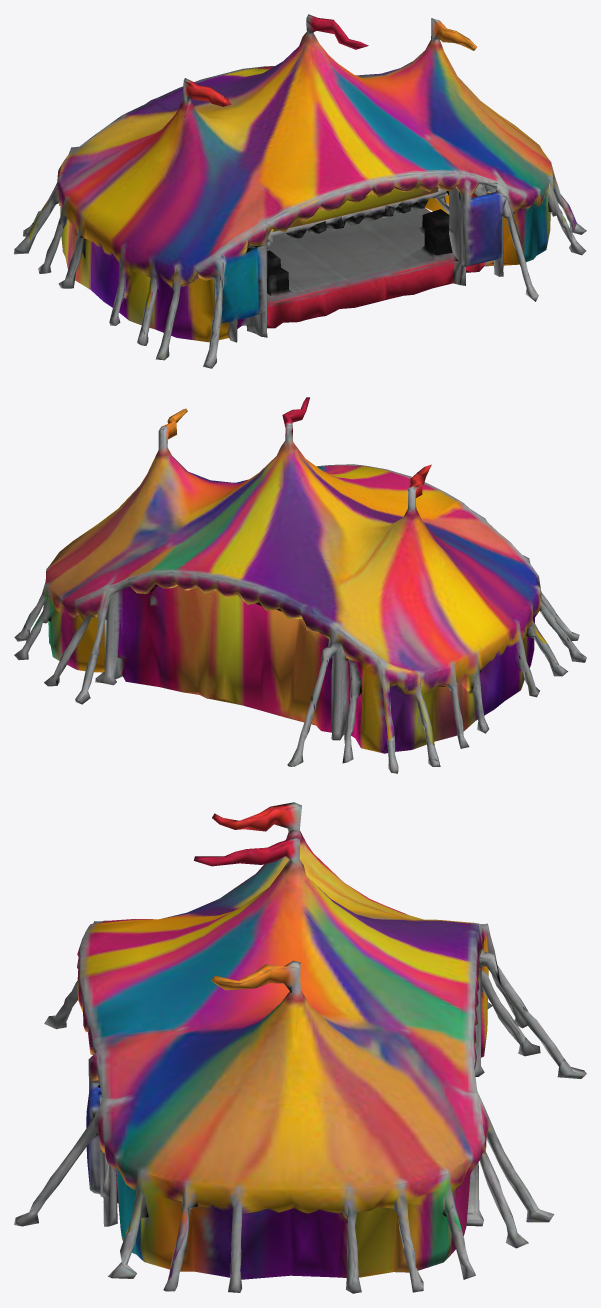
Rendered from fest_tent_stage.glb.
3 renders of one model, top to bottom at view 1: azimuth 30°, elevation 25°; view 2: azimuth 150°, elevation 25°; view 3: azimuth 270°, elevation 25°, orthographic. The views are drawn at different scales.
Visible parts, largest first — view 1: fest_tent_stage; view 2: fest_tent_stage; view 3: fest_tent_stage.
Part boxes in pixels (x1,y1,x2,y2): fest_tent_stage: [14, 14, 586, 368]; fest_tent_stage: [14, 397, 586, 773]; fest_tent_stage: [14, 802, 586, 1293].
Size of the model in its own units: 30 by 15 by 25.
Materials: 1 (1 with a texture image).
